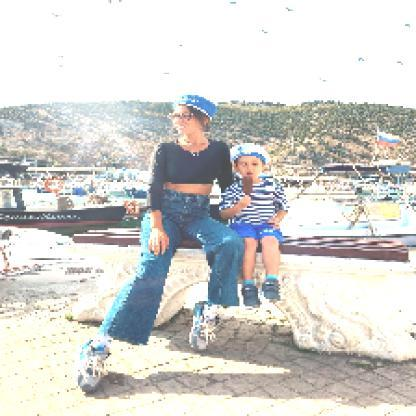child: (218, 144, 291, 311)
